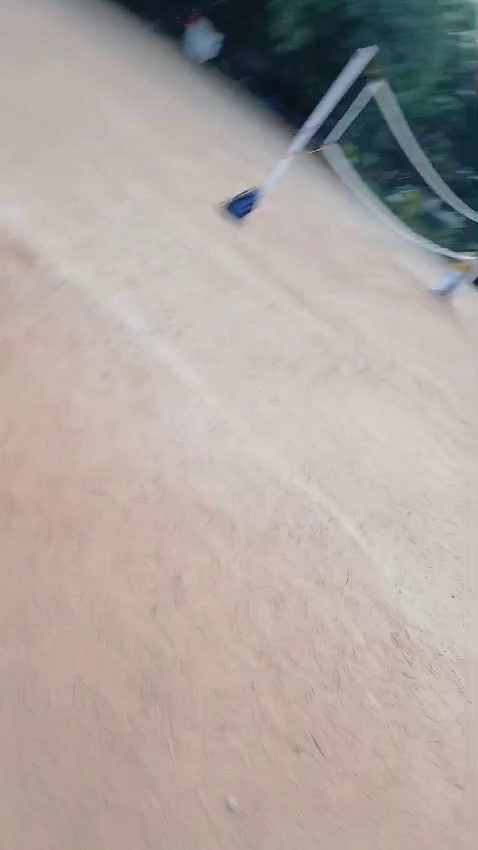bag: (219, 173, 246, 226)
